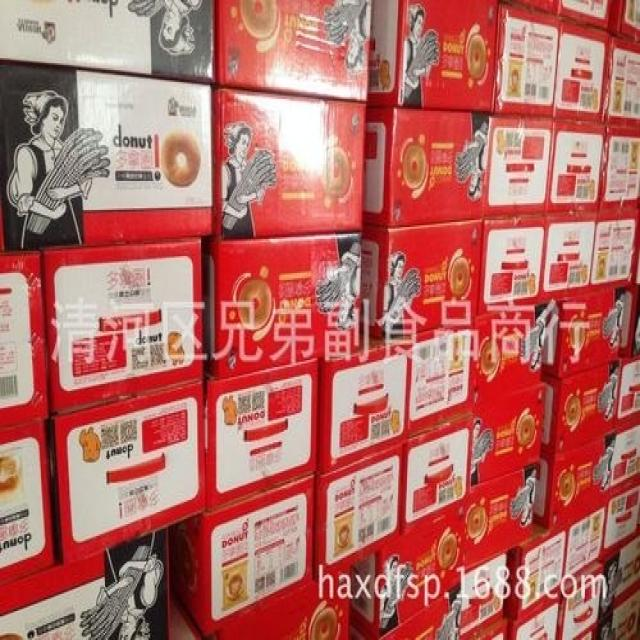box: (0, 60, 212, 251), (46, 381, 205, 563), (42, 239, 204, 416), (214, 85, 367, 239), (169, 474, 314, 635), (204, 234, 361, 379), (0, 527, 173, 640), (205, 360, 317, 512), (351, 498, 470, 638), (215, 0, 372, 102), (358, 218, 484, 341), (362, 108, 490, 227), (369, 0, 499, 113), (316, 331, 410, 474), (314, 444, 403, 580), (209, 565, 349, 640), (0, 418, 54, 585), (401, 413, 474, 534), (0, 253, 50, 428), (408, 319, 477, 439), (532, 432, 614, 529), (471, 382, 547, 486), (495, 3, 561, 119), (467, 464, 540, 567), (540, 360, 620, 452), (538, 288, 620, 377), (485, 116, 554, 218), (475, 304, 540, 408), (479, 217, 547, 314), (553, 20, 611, 123), (504, 522, 563, 620), (547, 121, 604, 213), (544, 212, 599, 300), (379, 591, 463, 640), (593, 210, 640, 292), (557, 561, 604, 640), (564, 498, 609, 580), (462, 555, 506, 637), (600, 536, 640, 625), (599, 126, 640, 212), (602, 36, 640, 128), (508, 591, 559, 640), (604, 485, 639, 550), (611, 420, 640, 495), (614, 353, 640, 427), (616, 285, 640, 353), (172, 589, 202, 640), (561, 0, 611, 29), (608, 0, 640, 43), (500, 0, 562, 17), (465, 621, 507, 640)
